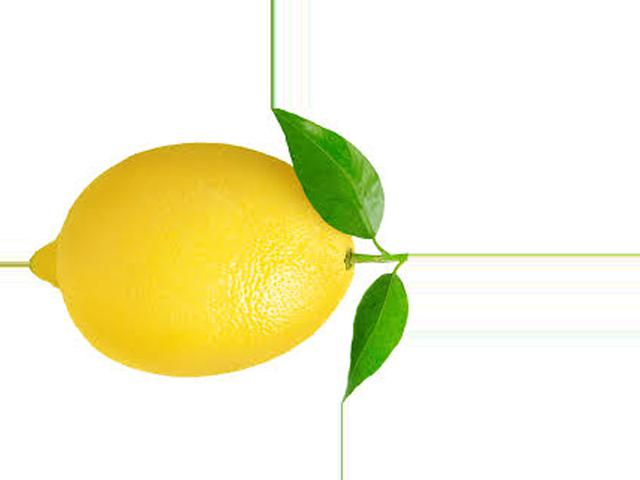lemon: (34, 128, 383, 386)
